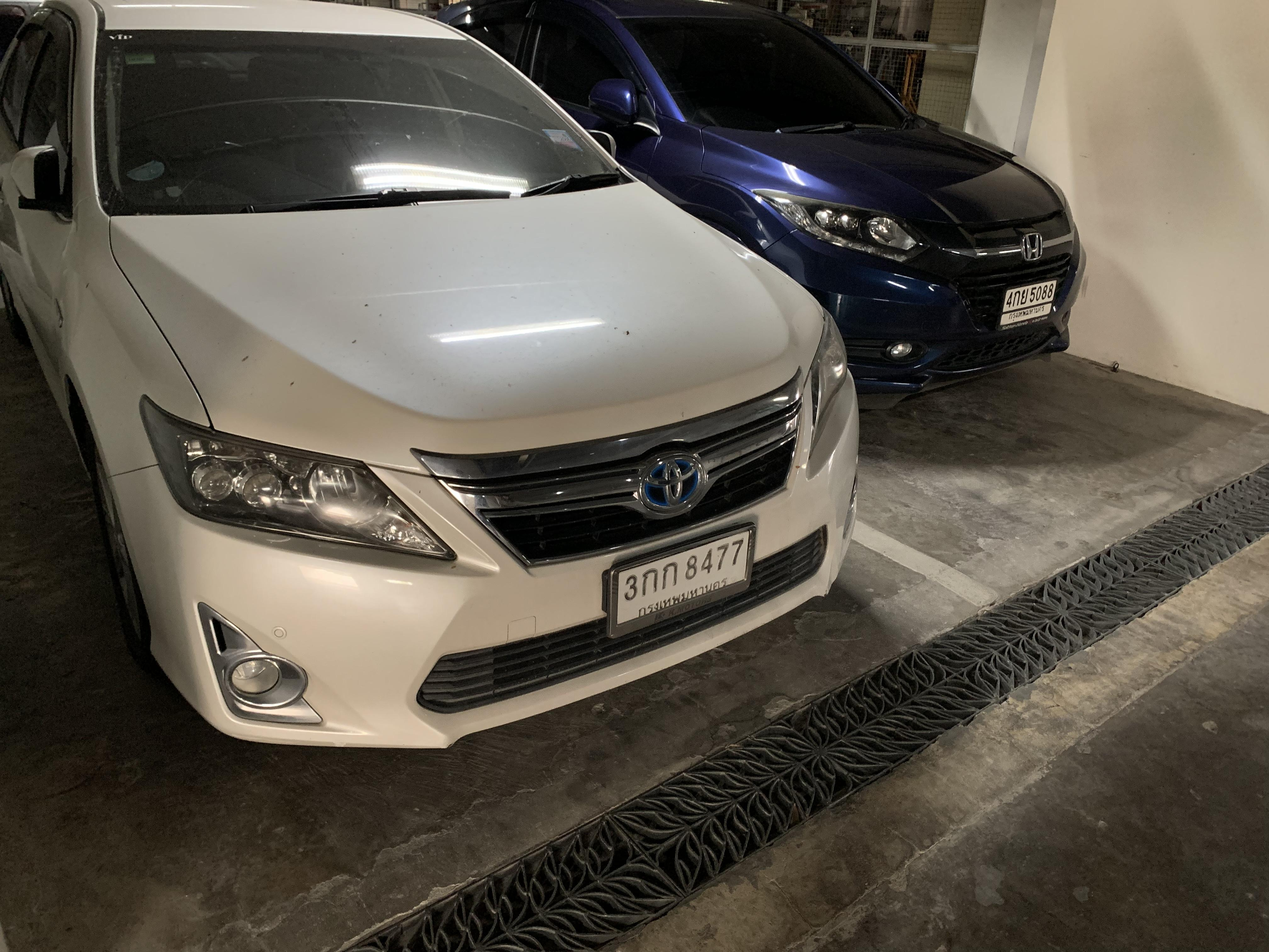license-plate: (601, 518, 764, 648), (1001, 275, 1061, 331)
